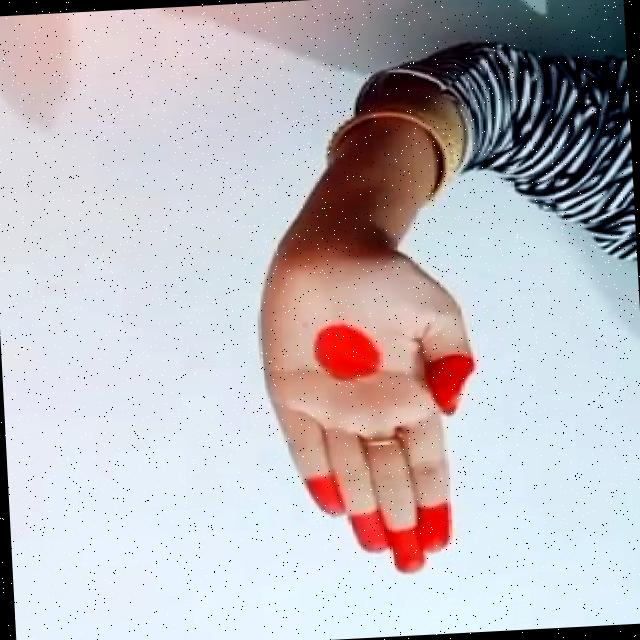Pataka: (237, 238, 508, 578)
bangle: (295, 94, 494, 196)
